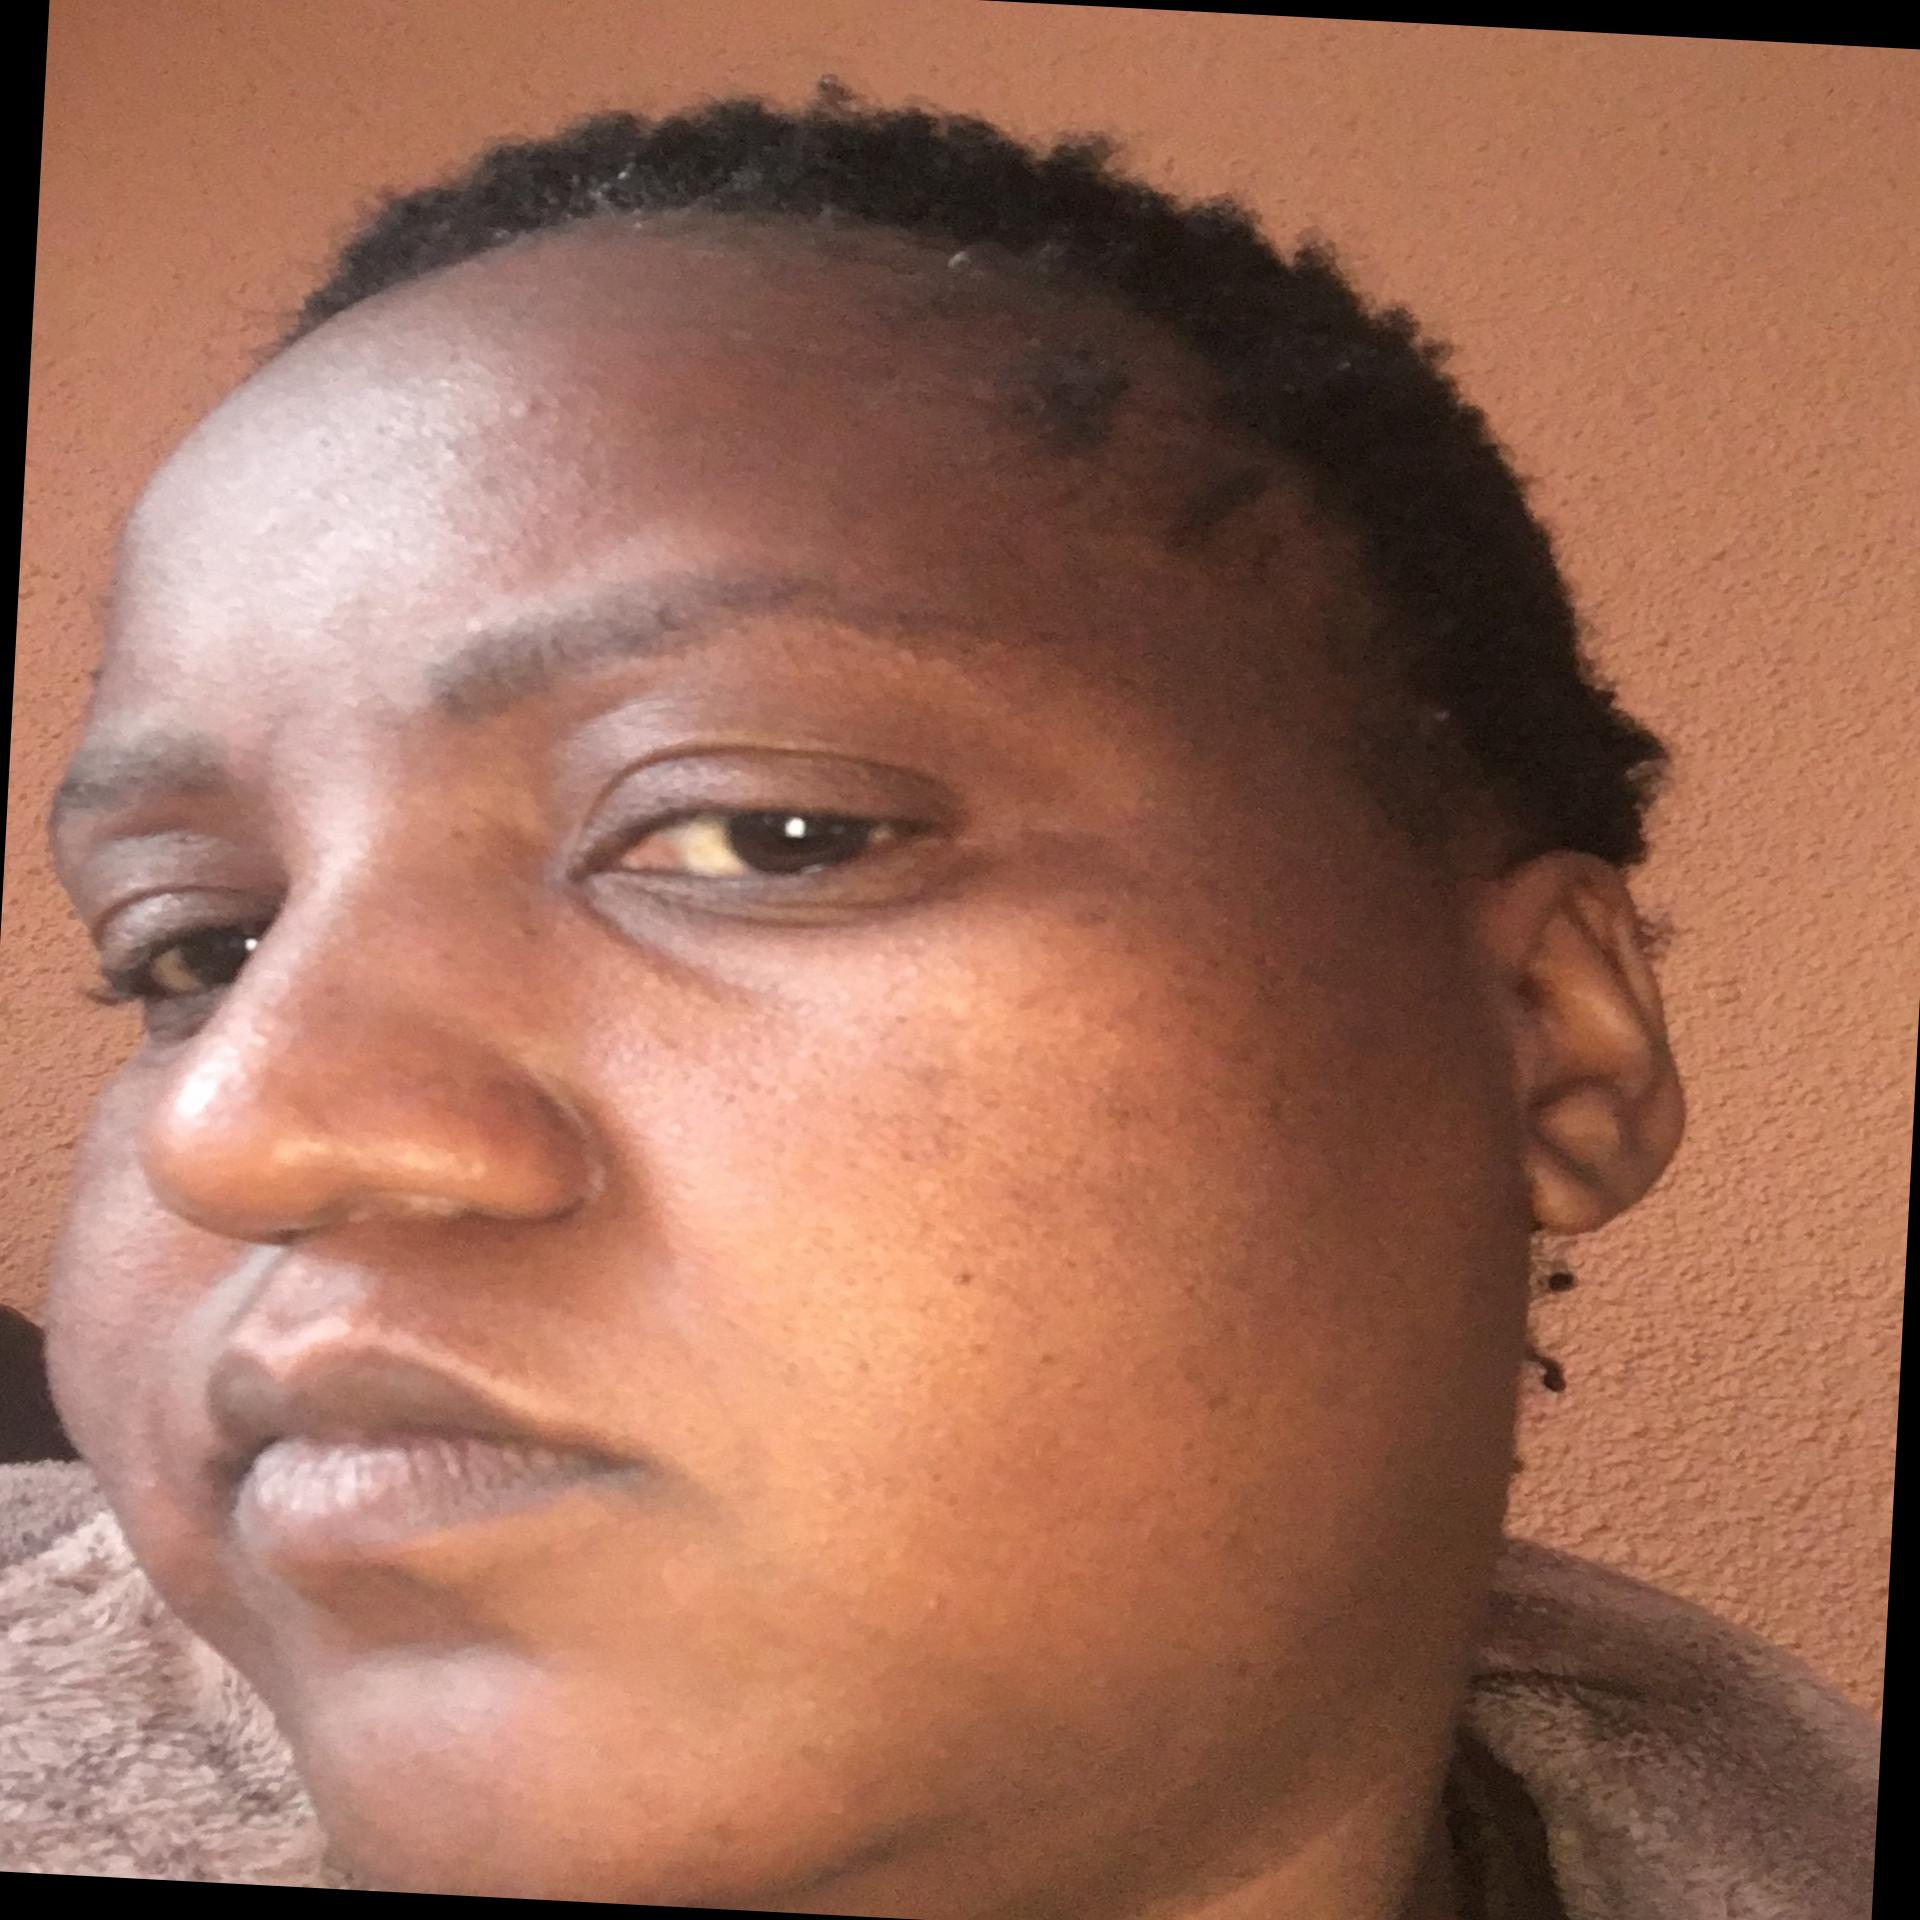Acne: (489, 387, 550, 427), (941, 1261, 988, 1285)
Englarged Pores: (819, 1037, 1104, 1312), (580, 967, 796, 1120)
